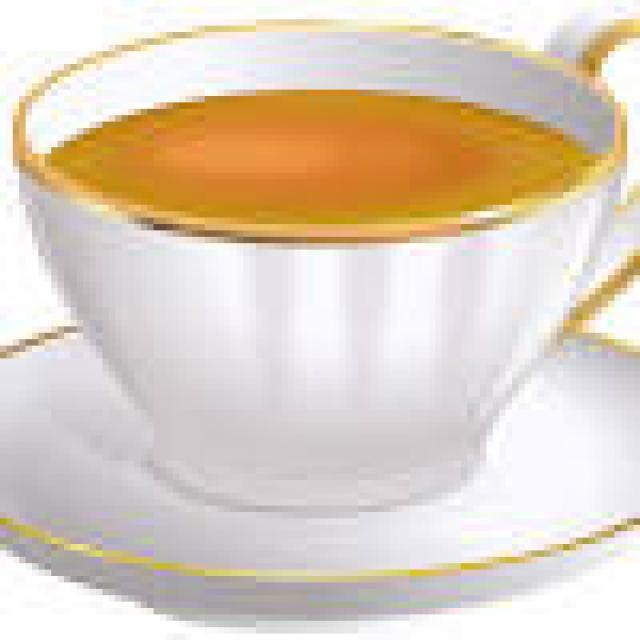taza: (8, 17, 640, 510)
